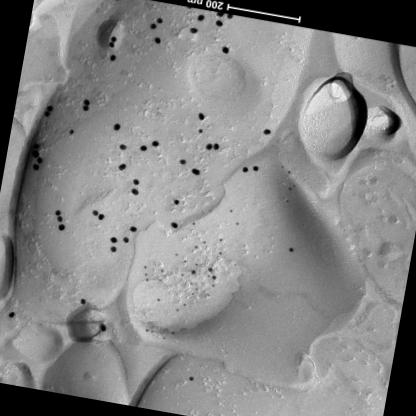6 nm Particle: (182, 302, 189, 308), (218, 236, 223, 244), (194, 286, 200, 292), (144, 276, 150, 282), (158, 268, 164, 274), (182, 259, 188, 265), (173, 252, 179, 258), (178, 272, 185, 277), (155, 297, 161, 302), (188, 280, 193, 286), (142, 264, 147, 270), (218, 250, 223, 256), (192, 245, 198, 250), (202, 240, 207, 246), (190, 221, 196, 226), (190, 292, 195, 297), (157, 278, 162, 283), (174, 308, 180, 312), (142, 272, 148, 276), (210, 284, 216, 288), (194, 262, 198, 268), (206, 274, 210, 279)
